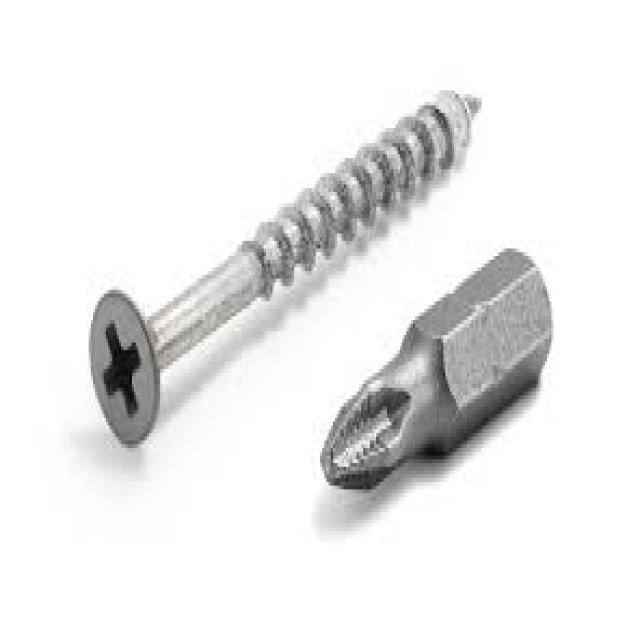Screw: (86, 90, 480, 448)
